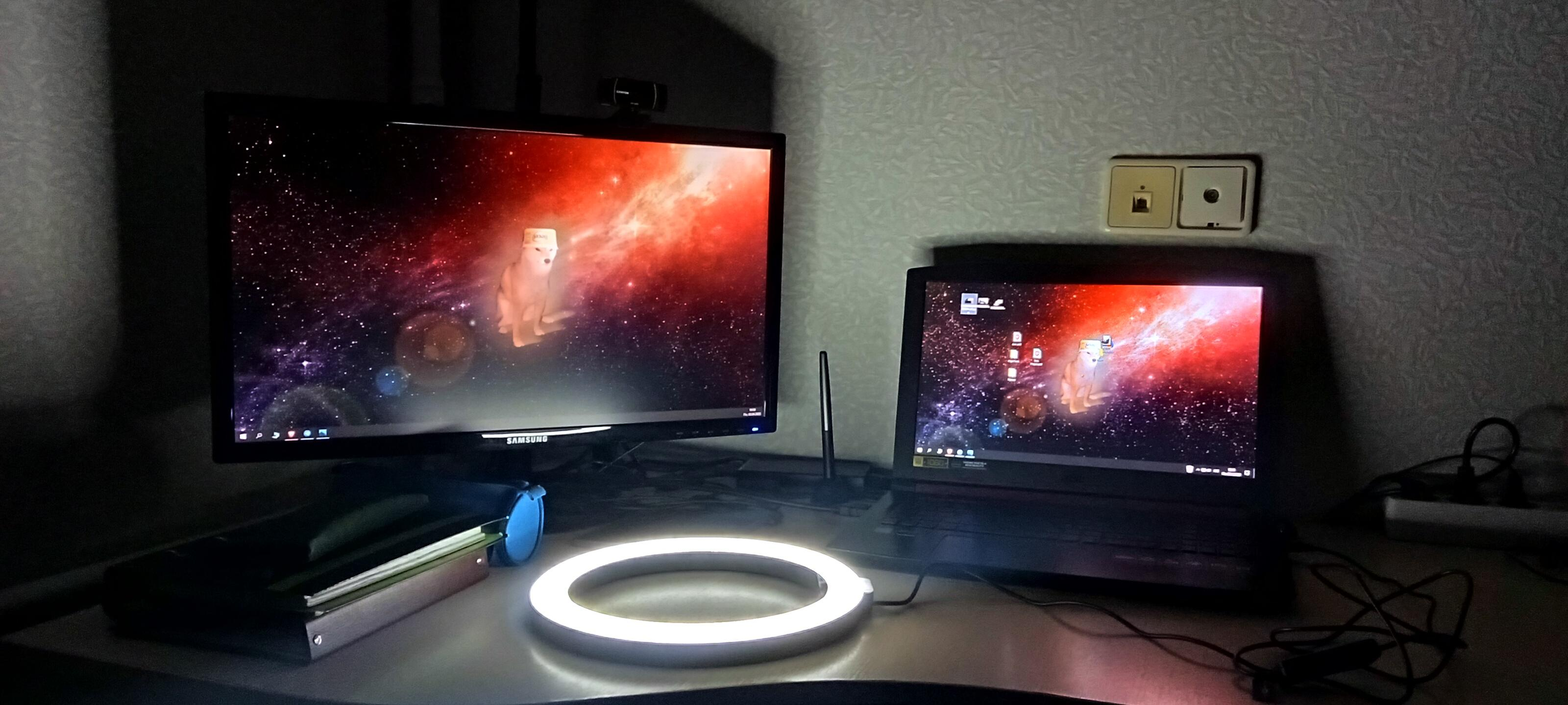monitor: (194, 80, 792, 485), (885, 253, 1300, 516)
